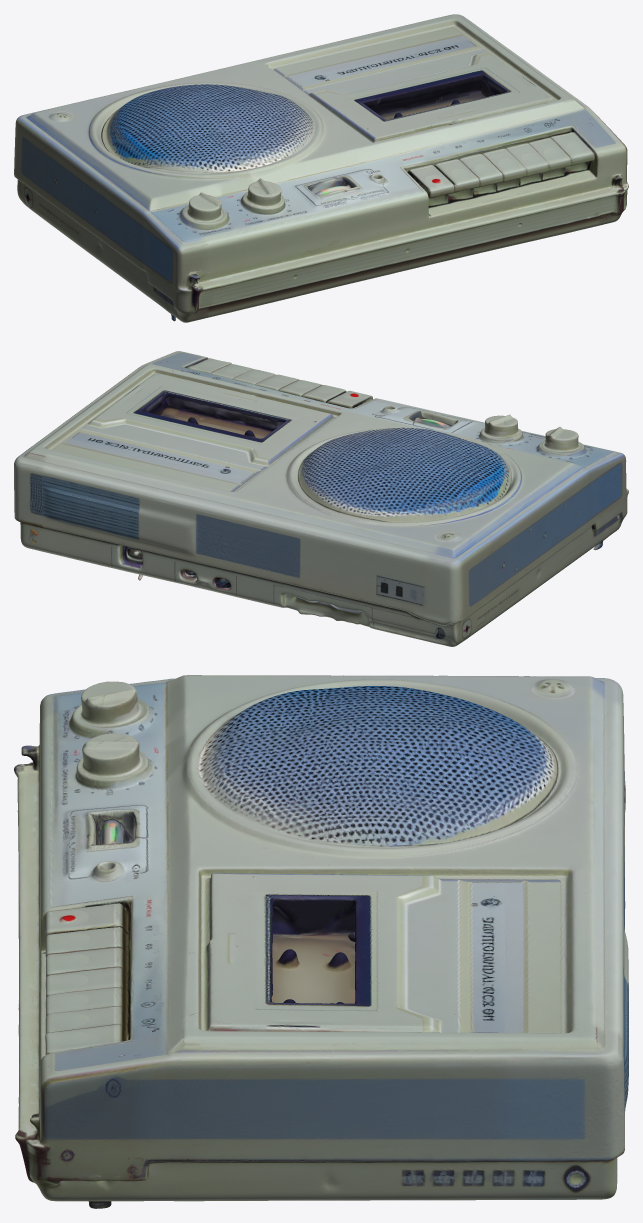
The model's file is kassetnyy_magnitofon_3d.glb.
The picture shows the model from 3 angles, top to bottom: view 1: azimuth 30°, elevation 25°; view 2: azimuth 150°, elevation 25°; view 3: azimuth 270°, elevation 25°; orthographic projection. The views are drawn at different scales.
Size of the model in its own units: 1.9 by 0.5102 by 1.3.
1 material, 1 textured.
